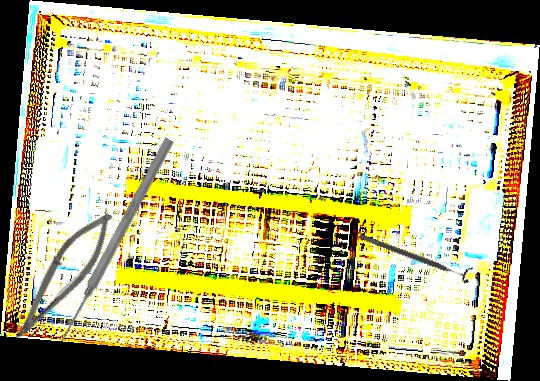Fixation Ring: (356, 227, 474, 285)
Micro Scissor: (5, 201, 123, 353)
Pusher: (55, 135, 176, 346)
